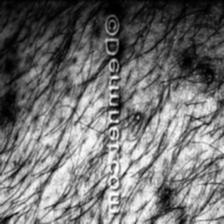Toxin: (173, 55, 221, 98), (0, 40, 19, 113), (149, 182, 183, 210), (138, 98, 157, 138), (127, 95, 144, 125)
